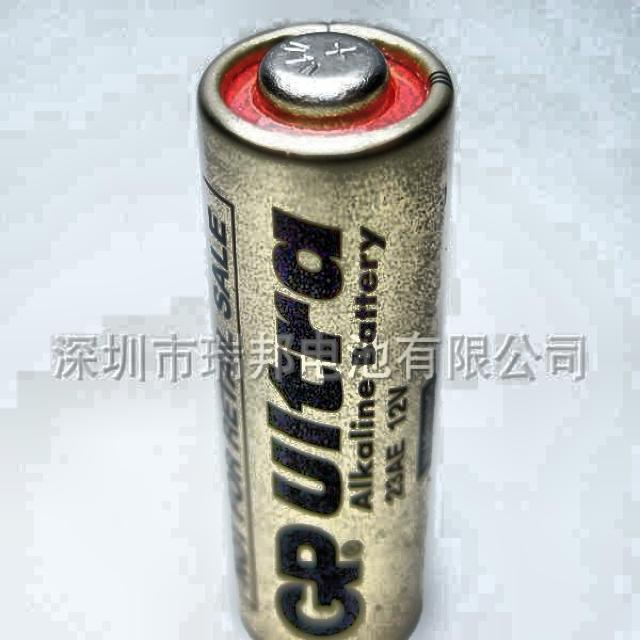Non-Valuable Waste - Batteries: (199, 24, 452, 637)
